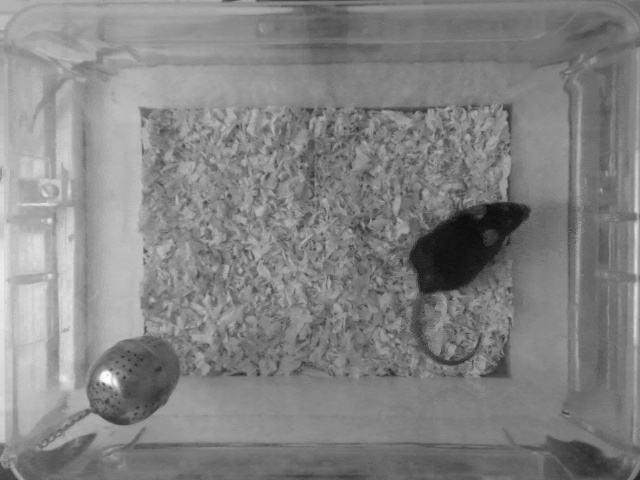mice: (401, 197, 533, 367)
